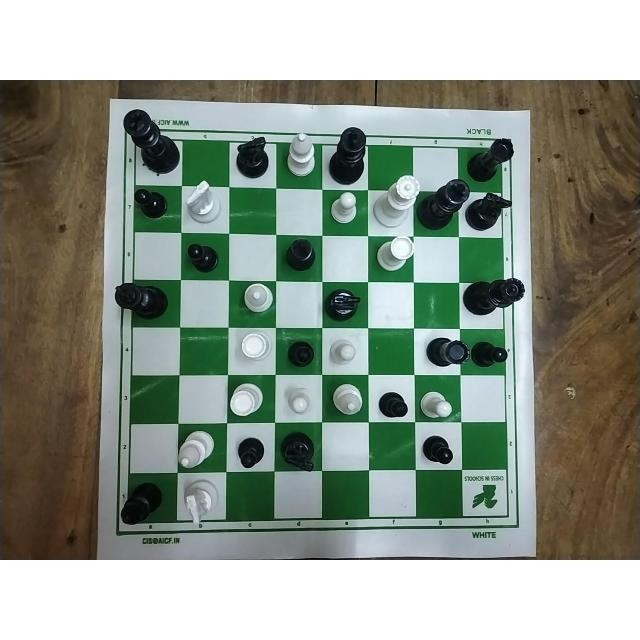black-bishop: (119, 479, 169, 525), (280, 236, 315, 271)
black-king: (120, 107, 182, 175), (416, 177, 471, 231), (327, 123, 367, 185), (110, 283, 169, 321)
black-knight: (464, 189, 514, 231), (231, 135, 272, 179), (277, 430, 318, 474), (322, 287, 362, 323)
black-pawn: (131, 185, 171, 218), (470, 336, 509, 368), (233, 438, 268, 470), (183, 242, 220, 272), (422, 436, 454, 465), (378, 392, 412, 418), (284, 338, 314, 366)
black-queen: (459, 274, 526, 316)
black-rook: (467, 137, 515, 181), (424, 335, 468, 369)
white-bishop: (177, 428, 215, 471), (285, 131, 317, 177), (239, 281, 275, 311), (332, 384, 364, 416)
white-knight: (182, 478, 221, 527), (183, 180, 225, 224)
white-pawn: (417, 387, 455, 419), (328, 191, 358, 224), (328, 337, 357, 366), (286, 386, 316, 414)
white-queen: (373, 175, 419, 226)
white-rook: (374, 234, 416, 281), (229, 381, 265, 417), (237, 330, 273, 362)
